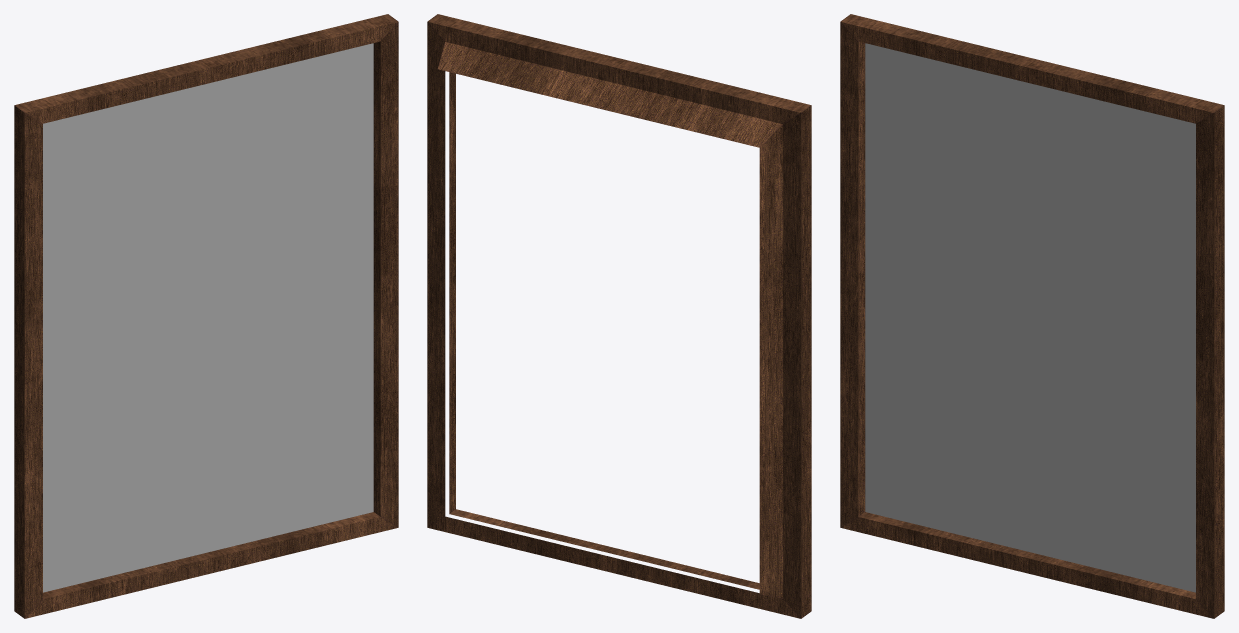
The model's file is PBR - Metallic Roughness.gltf.
3 views of the same model, side by side, from view 1: azimuth 30°, elevation 25°; view 2: azimuth 150°, elevation 25°; view 3: azimuth 330°, elevation 25° (orthographic).
Visible parts, largest first — view 1: house_interior:Box043 (×2); view 2: house_interior:Box043; view 3: house_interior:Box043 (×2).
Part boxes in pixels (left/top/right/bottom): house_interior:Box043 (×2): left=14, top=14, right=398, bottom=618; house_interior:Box043: left=427, top=14, right=811, bottom=618; house_interior:Box043 (×2): left=840, top=14, right=1224, bottom=618.
Bounding box in the file's own units: 1.68 × 2.17 × 0.2033.
Materials: 2 (2 with a texture image).
